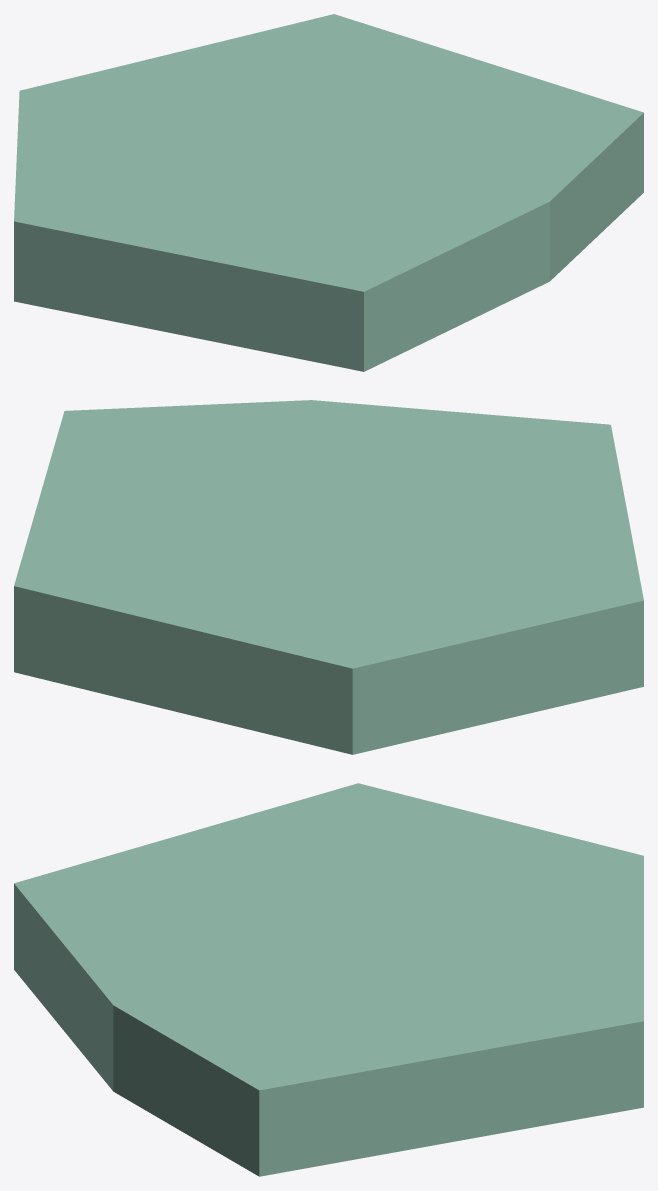
File: naturePack_011.fbx
3 views of the same model, one above another, from view 1: azimuth 30°, elevation 25°; view 2: azimuth 150°, elevation 25°; view 3: azimuth 270°, elevation 25° (orthographic). The views are drawn at different scales.
Parts seen in each view (by area): view 1: naturePack_011; view 2: naturePack_011; view 3: naturePack_011.
Boxes of the visible parts, x1,y1,x2,y2 form: naturePack_011: (14, 14, 643, 371); naturePack_011: (14, 400, 643, 754); naturePack_011: (14, 783, 643, 1176).
Bounding box in the file's own units: 137 × 18 × 119.
